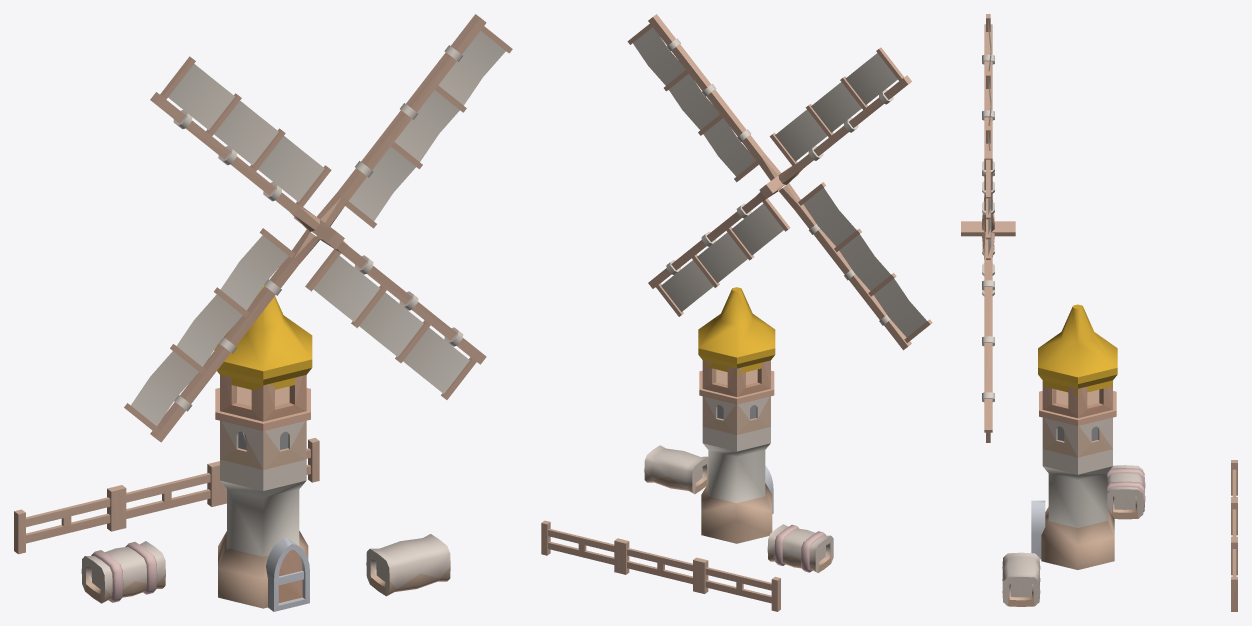
The model's file is mill_l2.glb.
3 views of the same model, side by side, from view 1: azimuth 30°, elevation 25°; view 2: azimuth 150°, elevation 25°; view 3: azimuth 270°, elevation 25° (orthographic). The views are drawn at different scales.
Parts seen in each view (by area): view 1: Sails, mill_l2; view 2: Sails, mill_l2; view 3: mill_l2, Sails.
Part boxes in pixels (x1,y1,x2,y2): Sails: [124, 14, 512, 442]; mill_l2: [14, 286, 450, 611]; Sails: [627, 14, 932, 350]; mill_l2: [541, 287, 833, 611]; mill_l2: [1002, 304, 1237, 611]; Sails: [961, 14, 1015, 442].
Bounding box in the file's own units: 6.6 × 9.8 × 5.04.
